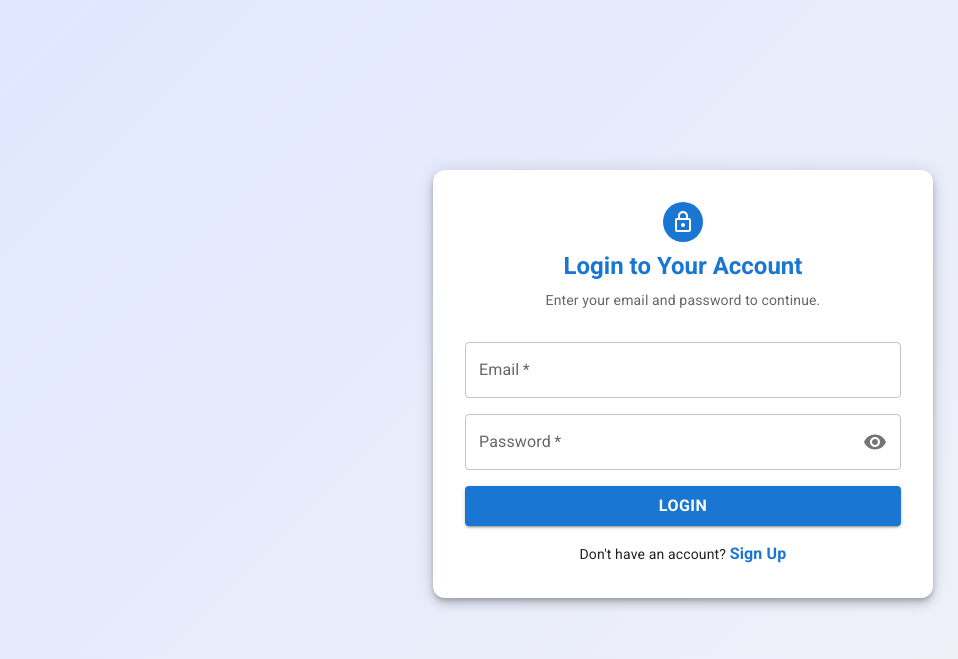
Test case: shows error message on invalid login
Type "wrong@example.com" into the field labelled "Email *".
click(683, 370); type("wrong@example.com")  # box [465,342,901,398]
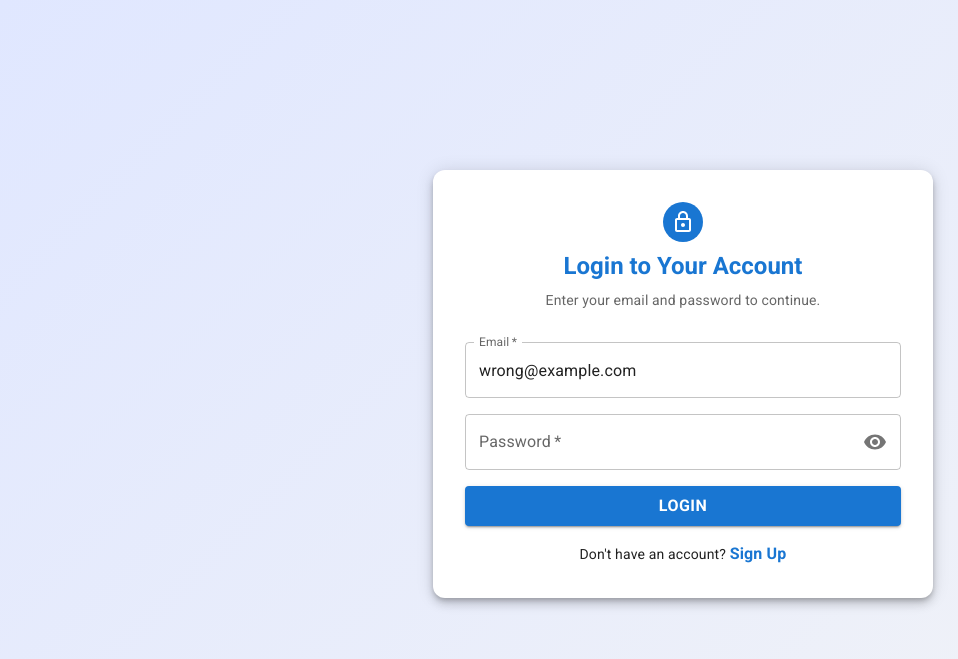
Type "wrongpass" into the password field labelled "Password *".
click(654, 442); type("wrongpass")  # box [465,414,843,470]
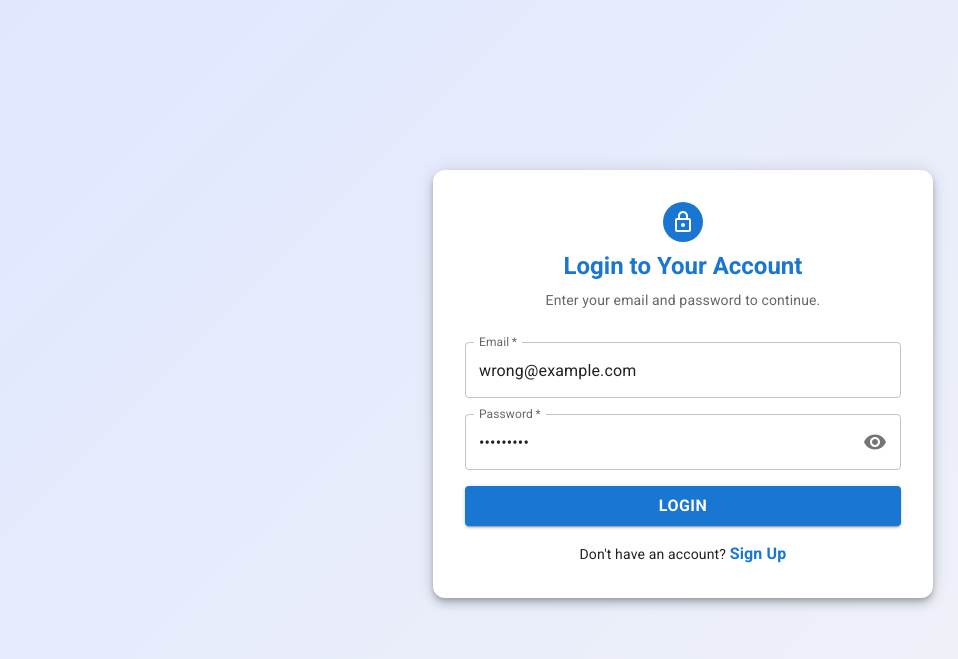
Click the button "Login".
click(683, 506)  # box [465,486,901,526]
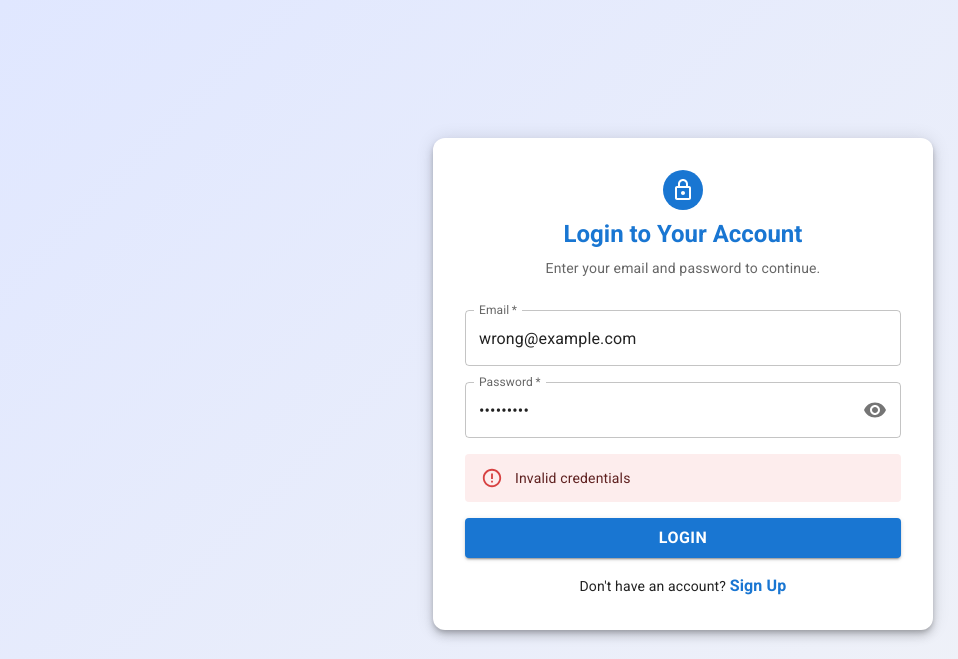
Expected: the text "Invalid credentials" is shown, [515,470,630,486]
